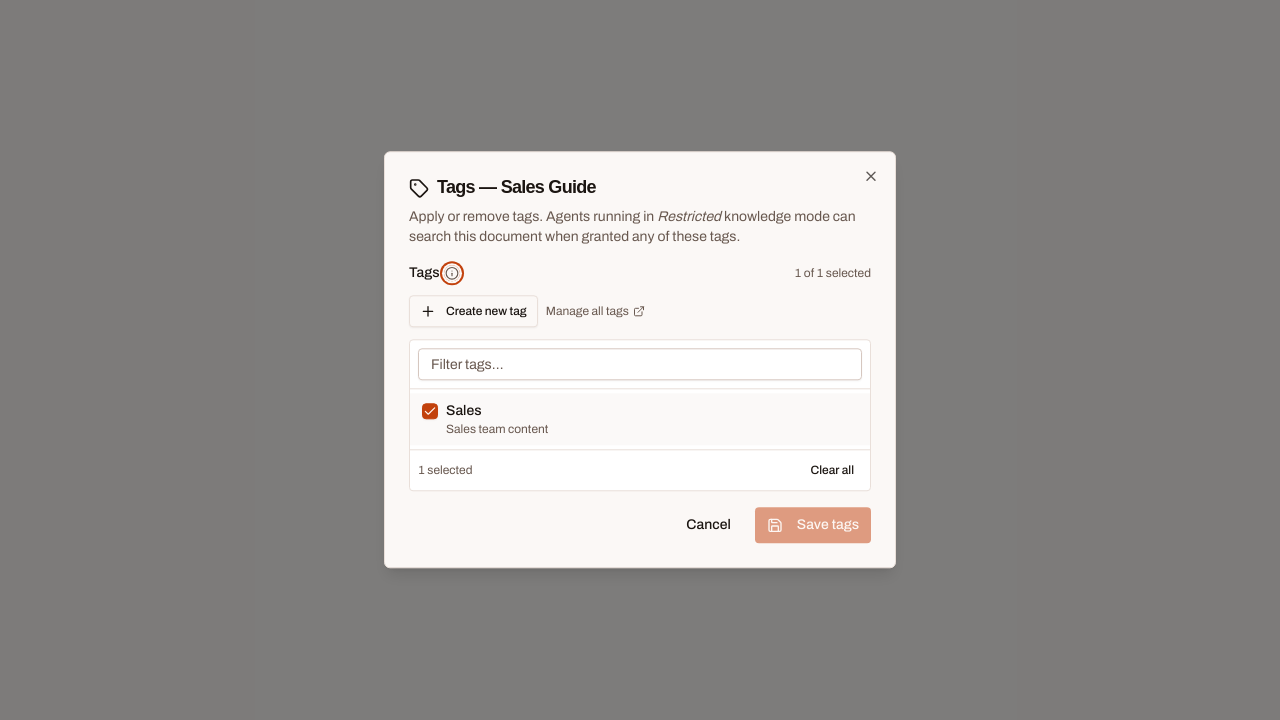
Test: DocumentTagsModal › checkbox interactions › unchecking a selected tag makes selection dirty
Expected: the text "Sales" is shown, [446,404,482,419]
Uncheck the tag
Click the checkbox named "remove tag sales" at [430, 412], box [422,404,438,420]
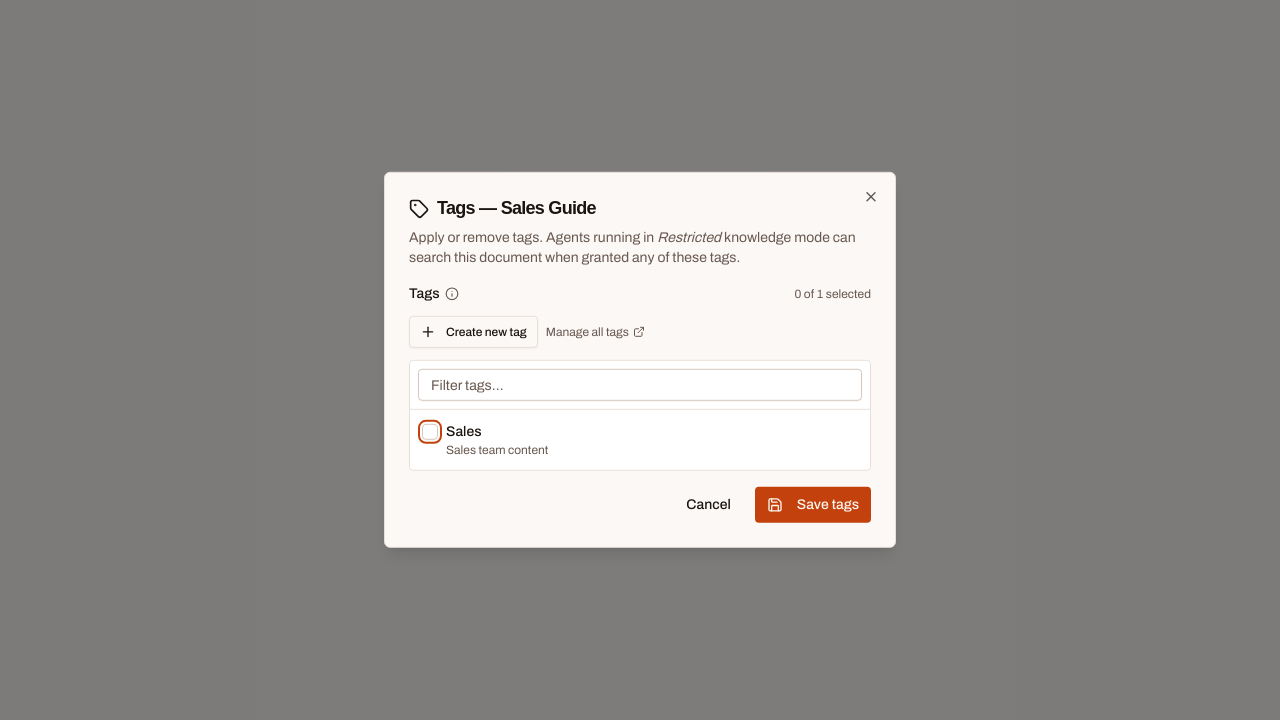
Now the button "Save tags" is enabled, box [755,487,871,523]
